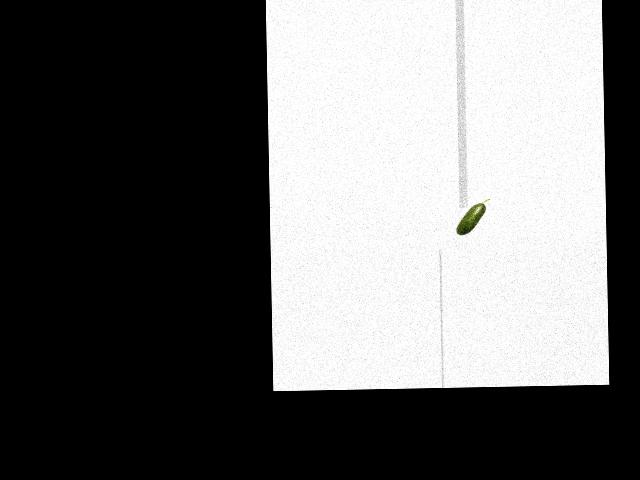cucumber: (455, 198, 490, 234)
